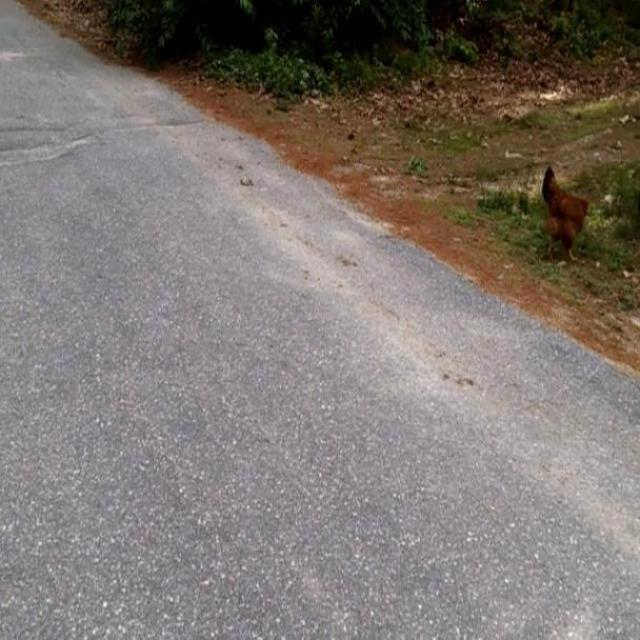Chicken: (542, 167, 591, 264)
